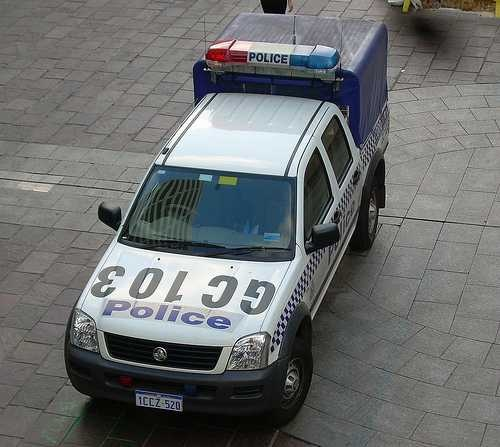Police Van: (68, 26, 382, 447)
